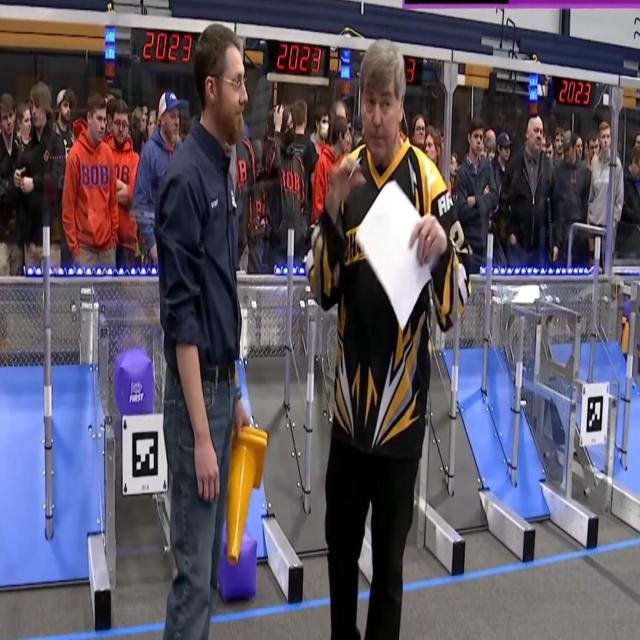frc_cone: (226, 424, 268, 562)
frc_cube: (216, 527, 256, 600), (115, 349, 152, 416)
